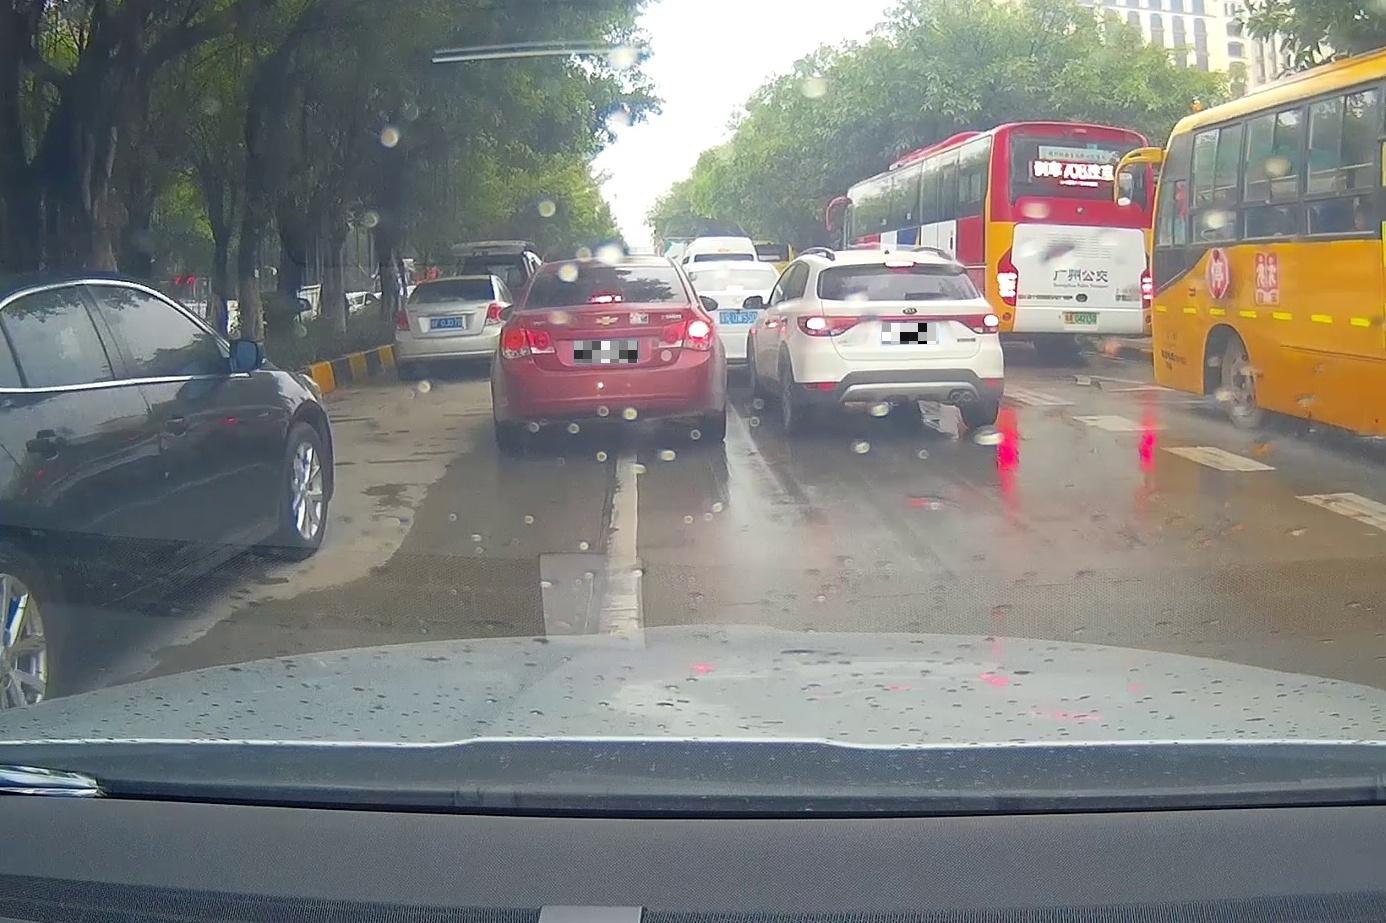L_light: (500, 326, 554, 358), (797, 315, 859, 338)
R_light: (659, 318, 714, 350), (954, 313, 998, 333)
T_light: (589, 294, 624, 303), (885, 260, 914, 267)
day-brake: (491, 257, 725, 453), (794, 255, 1004, 436)
plate_1: (574, 341, 638, 363)
plate_2: (882, 323, 938, 344)
